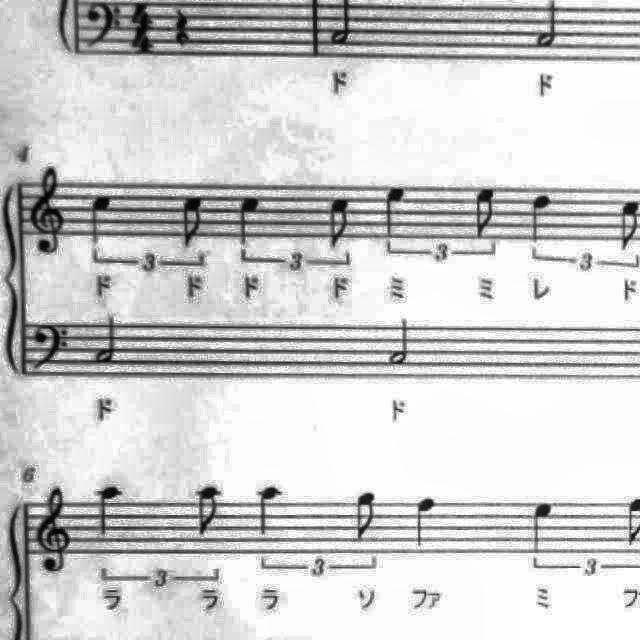Bass-clef: (30, 318, 76, 377)
Eighth-note: (188, 482, 228, 544), (174, 189, 210, 253), (348, 487, 384, 548), (468, 182, 504, 242), (322, 192, 356, 252), (614, 193, 640, 254), (619, 489, 640, 555), (639, 489, 640, 555)
Half-note: (90, 312, 126, 371), (530, 1, 568, 52), (386, 313, 418, 371), (326, 0, 362, 48)
Quarter-note: (407, 490, 445, 556), (376, 182, 412, 250), (252, 481, 292, 542), (524, 495, 560, 559), (92, 479, 128, 541), (232, 189, 268, 251), (522, 188, 558, 248), (85, 187, 119, 249)
Quarter-rest: (166, 1, 198, 52)
Treble-clef: (22, 164, 70, 260), (34, 485, 78, 581)
